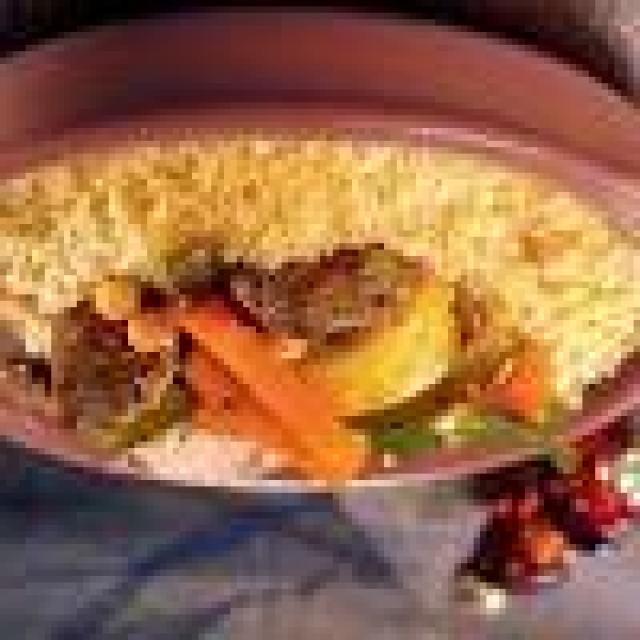Couscous: (0, 133, 640, 486)
